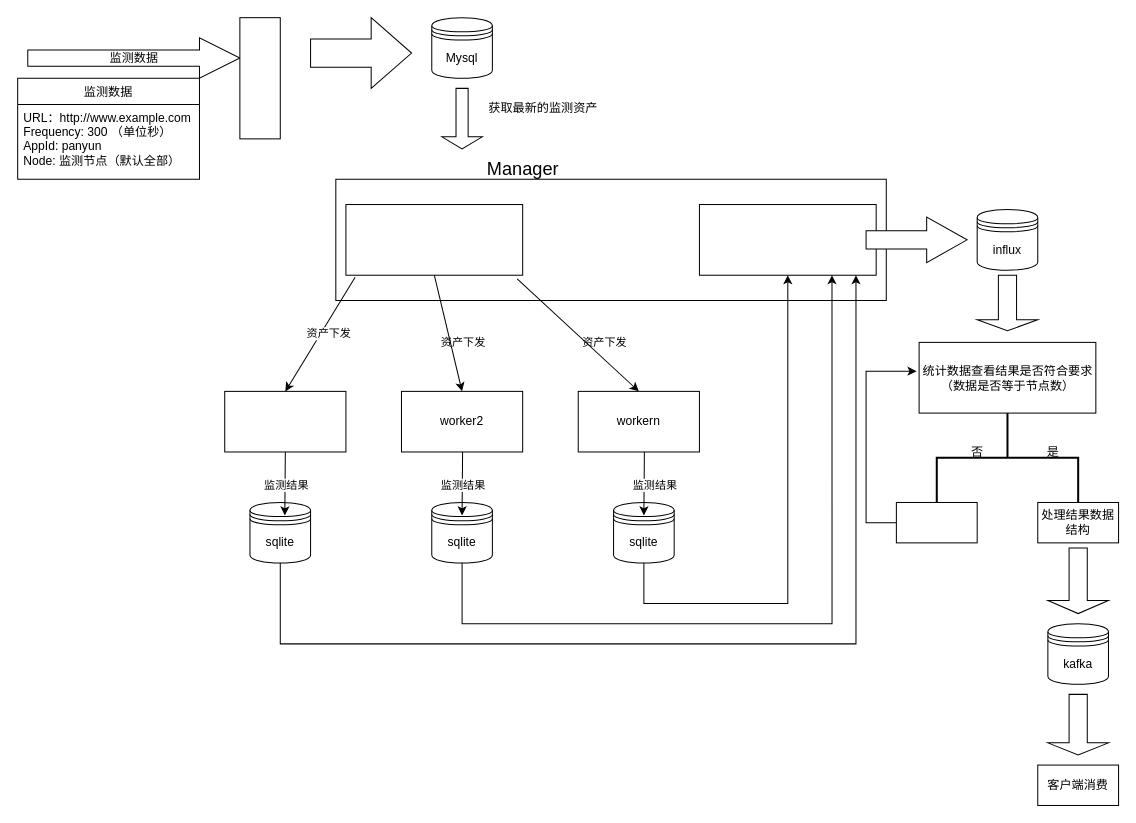
Image size: 1136x823. Some labels were removed from this diagram. Here are the shapes that lost their labels. From the top down, the box of each, then its label:
(310, 17, 412, 88): 检测合法性
(239, 17, 280, 139): API
(345, 204, 523, 275): 资产下发给工作节点
(698, 204, 876, 275): 节点结果汇总
(224, 390, 346, 452): worker1
(895, 501, 977, 543): 等待
